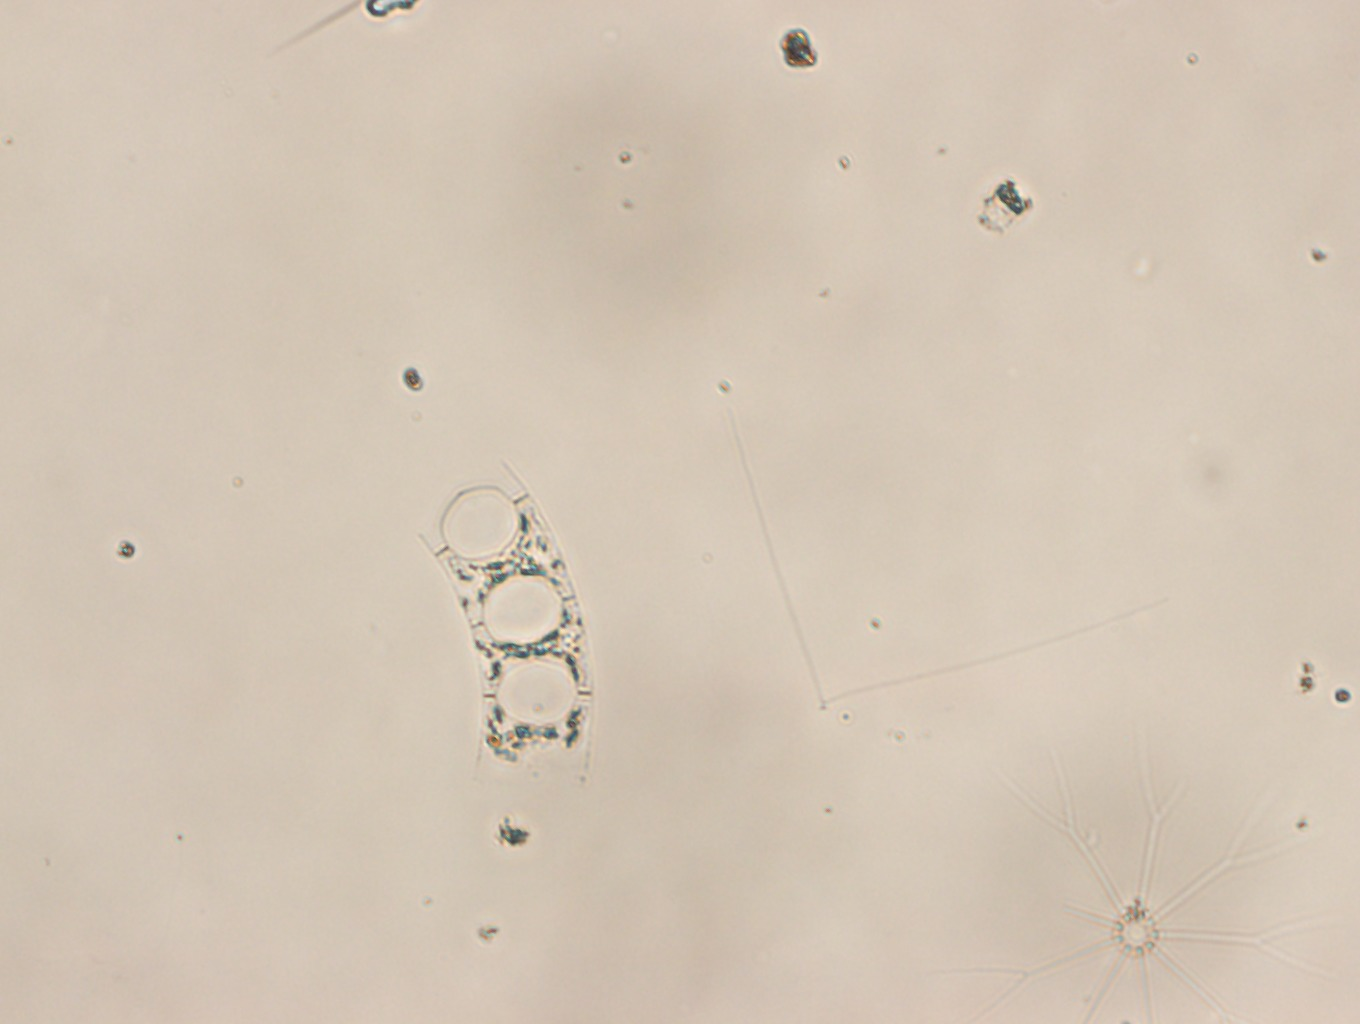bacteriastrum: (963, 736, 1337, 1024)
eucampia: (420, 460, 592, 799)
